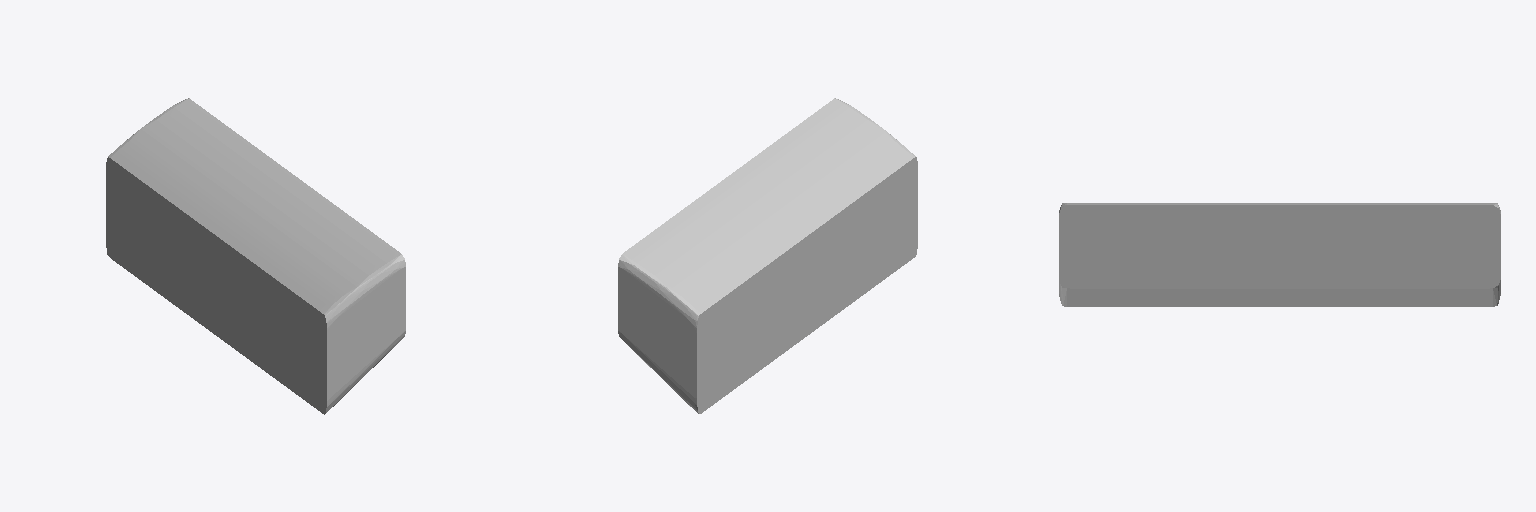
Rendered from Cylinder_with_Hole_collision_9.obj.
3 views of the same model, side by side, from view 1: azimuth 30°, elevation 25°; view 2: azimuth 150°, elevation 25°; view 3: azimuth 270°, elevation 25° (orthographic).
Size of the model in its own units: 29.54 by 50.07 by 143.